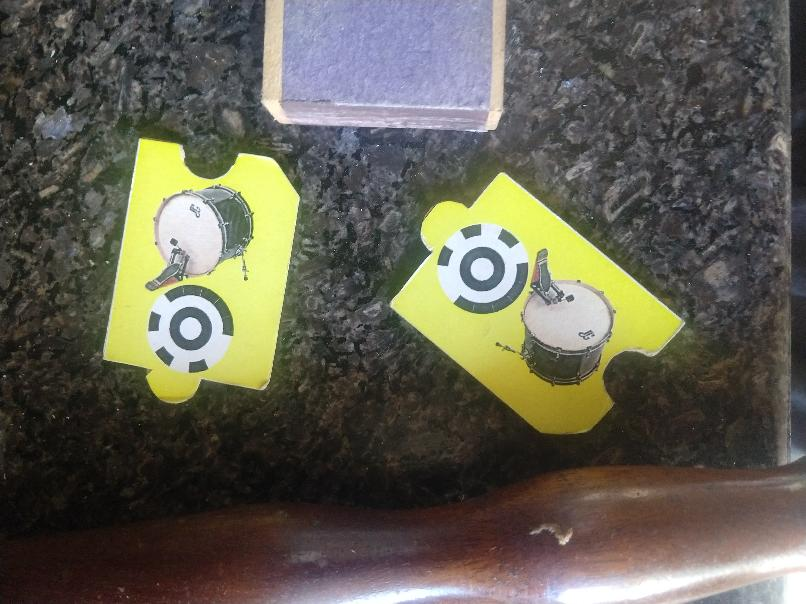bumbo: (390, 169, 684, 440), (105, 132, 298, 406)
